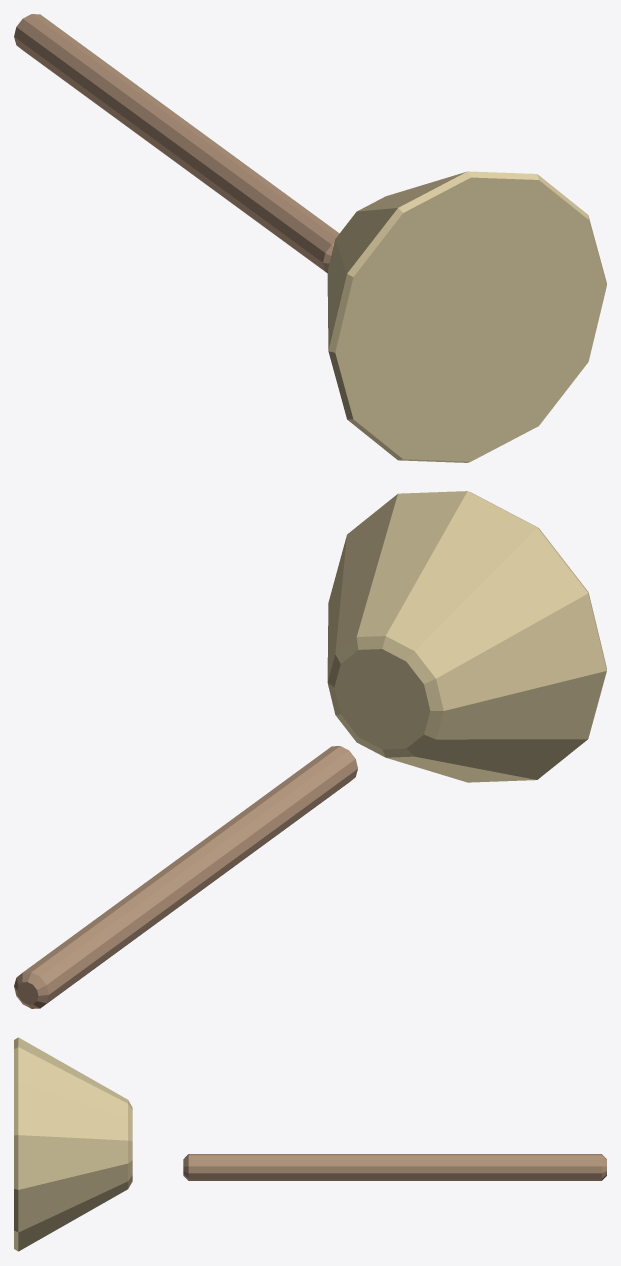
Rendered from SM_Broom.fbx.
3 views of the same model, one above another, from view 1: azimuth 30°, elevation 25°; view 2: azimuth 150°, elevation 25°; view 3: azimuth 270°, elevation 25° (orthographic). The views are drawn at different scales.
Parts seen in each view (by area): view 1: Broom; view 2: Broom; view 3: Broom.
Part boxes in pixels (<box>): Broom: <box>14,14,606,462</box>; Broom: <box>14,491,606,1008</box>; Broom: <box>14,1037,606,1251</box>.
Size of the model in its own units: 25.4 by 25.4 by 70.
